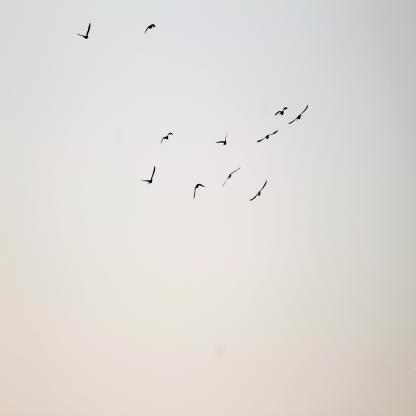bird: (288, 105, 309, 124), (250, 180, 268, 200), (223, 168, 241, 187), (257, 130, 279, 142), (76, 23, 91, 40), (141, 166, 155, 184), (192, 184, 205, 199), (216, 129, 228, 145), (160, 132, 174, 144), (144, 24, 156, 34), (274, 107, 287, 115)
